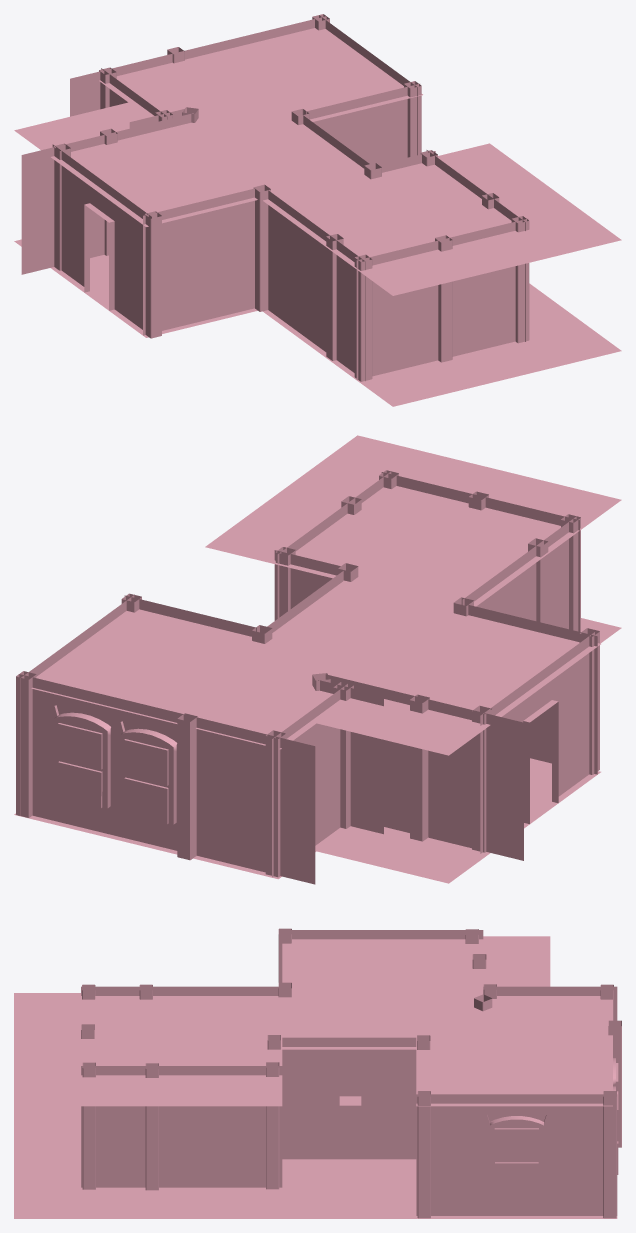
File: ApartmentStructure.fbx
3 views of the same model, one above another, from view 1: azimuth 30°, elevation 25°; view 2: azimuth 150°, elevation 25°; view 3: azimuth 270°, elevation 25° (orthographic). The views are drawn at different scales.
Parts seen in each view (by area): view 1: ApartmentStructure; view 2: ApartmentStructure; view 3: ApartmentStructure.
Part boxes in pixels (x1=…): ApartmentStructure: x1=14, y1=14, x2=621, y2=406; ApartmentStructure: x1=14, y1=435, x2=621, y2=884; ApartmentStructure: x1=14, y1=928, x2=621, y2=1218.
Size of the model in its own units: 1302 by 400 by 1814.
